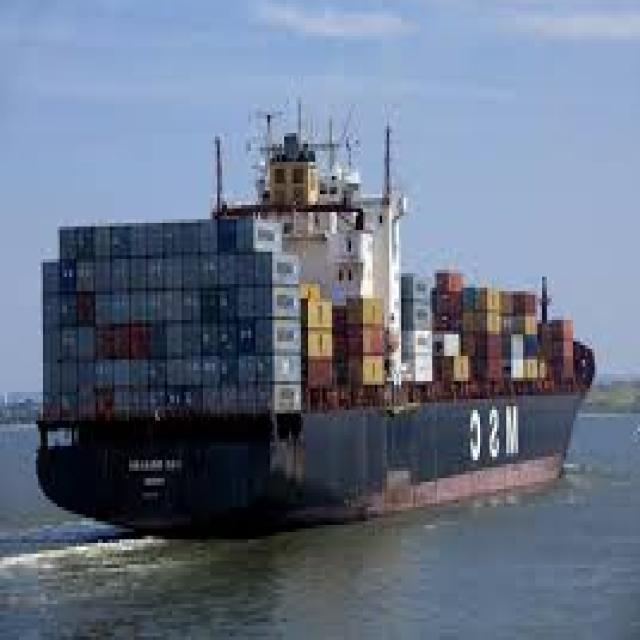cargoship: (32, 104, 616, 524)
